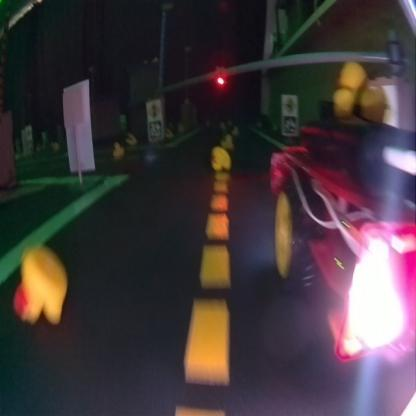Duckie: (17, 249, 66, 322), (333, 62, 385, 121), (211, 147, 230, 168), (221, 135, 233, 149), (113, 141, 123, 157), (126, 134, 135, 142), (233, 126, 237, 134)
Duckiebot: (270, 111, 414, 363)
Intersection sign: (282, 98, 296, 113)
QR code: (282, 115, 296, 132), (148, 120, 160, 138)
Signal sign: (146, 101, 160, 117)
Traffic light: (214, 73, 225, 85)
